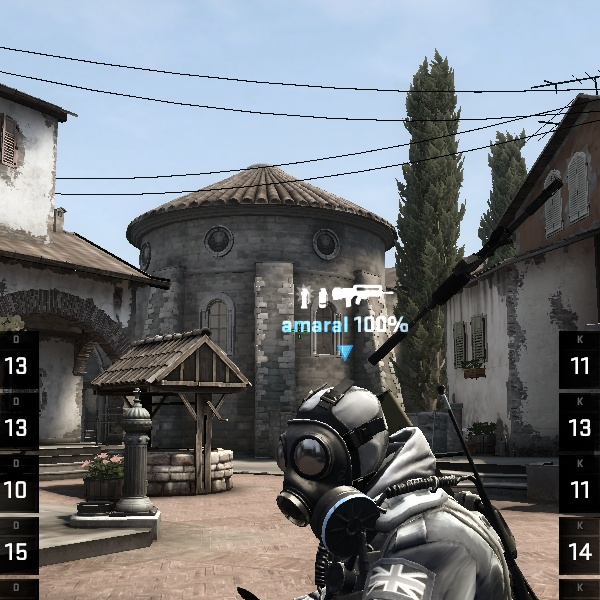ct_body: (188, 391, 539, 588)
